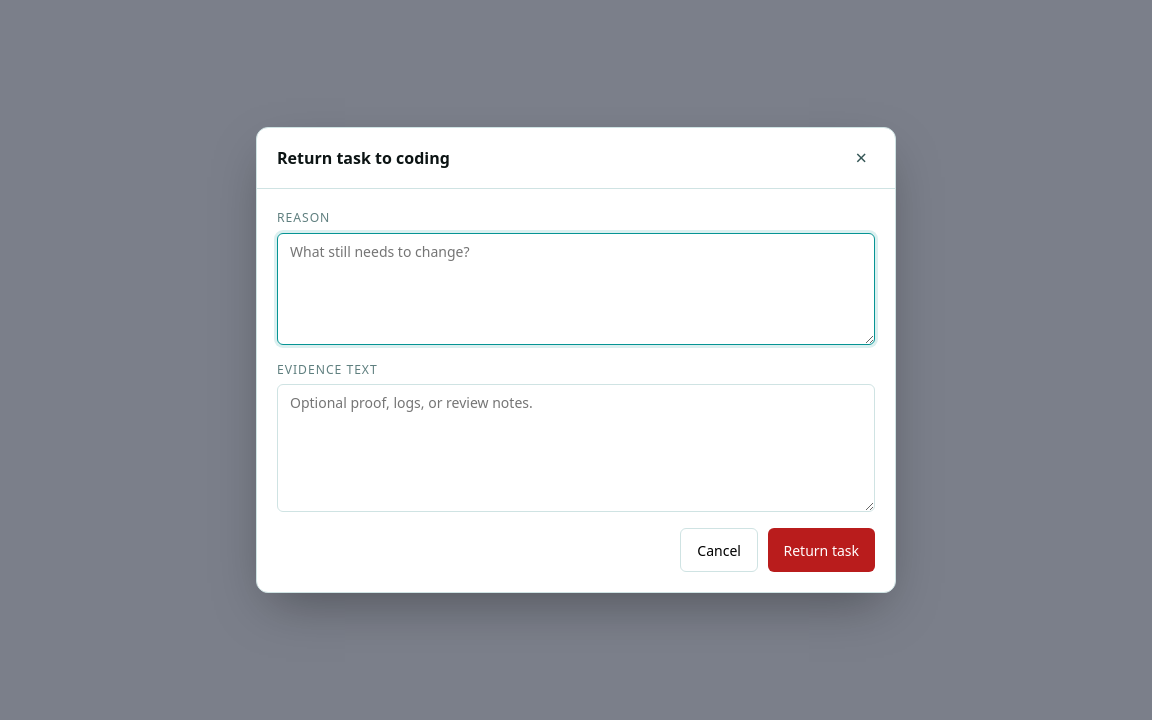
Test: RejectModal › requires a reason before submit
Click the button "Return task" at (821, 550), box [768,528,875,572]
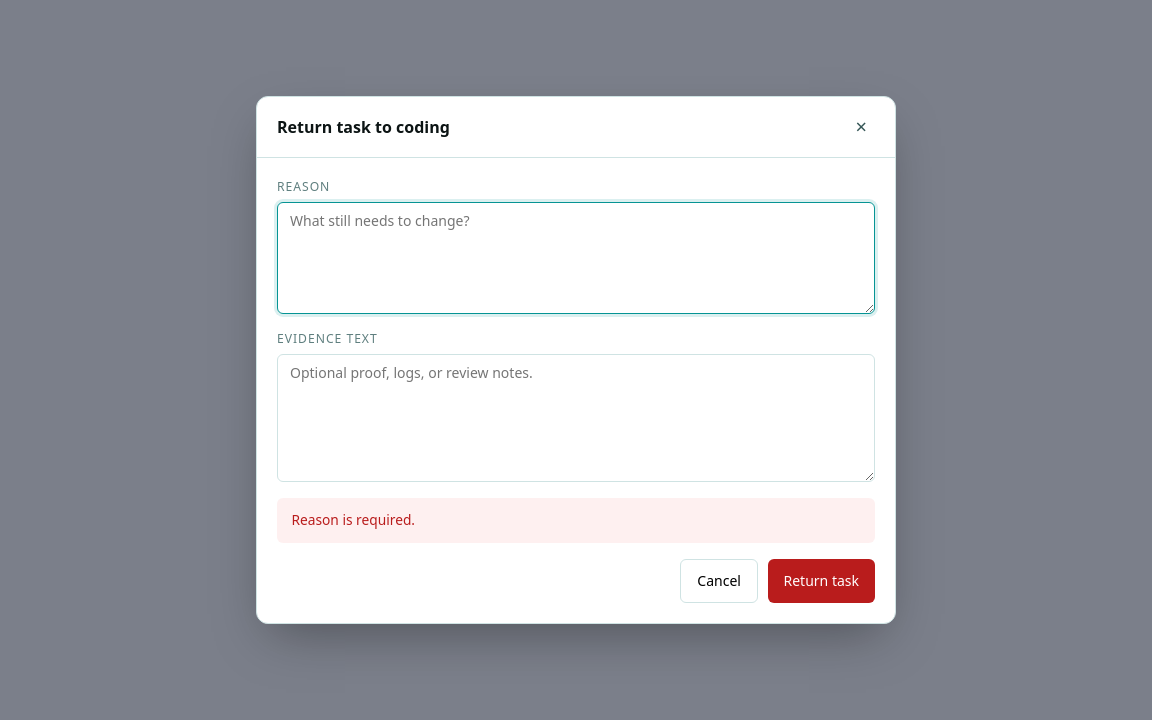
Now the text "Reason is required." is shown, box [277,498,875,543]
